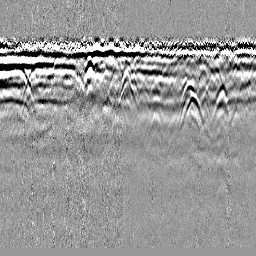cavity: (117, 80, 139, 106)
